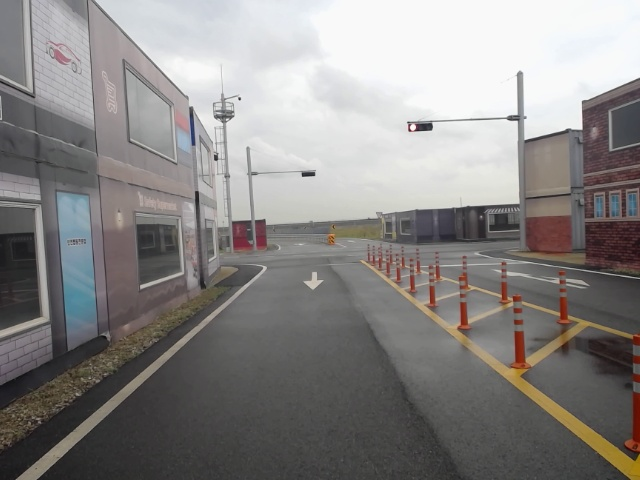red_3: (407, 120, 434, 133)
